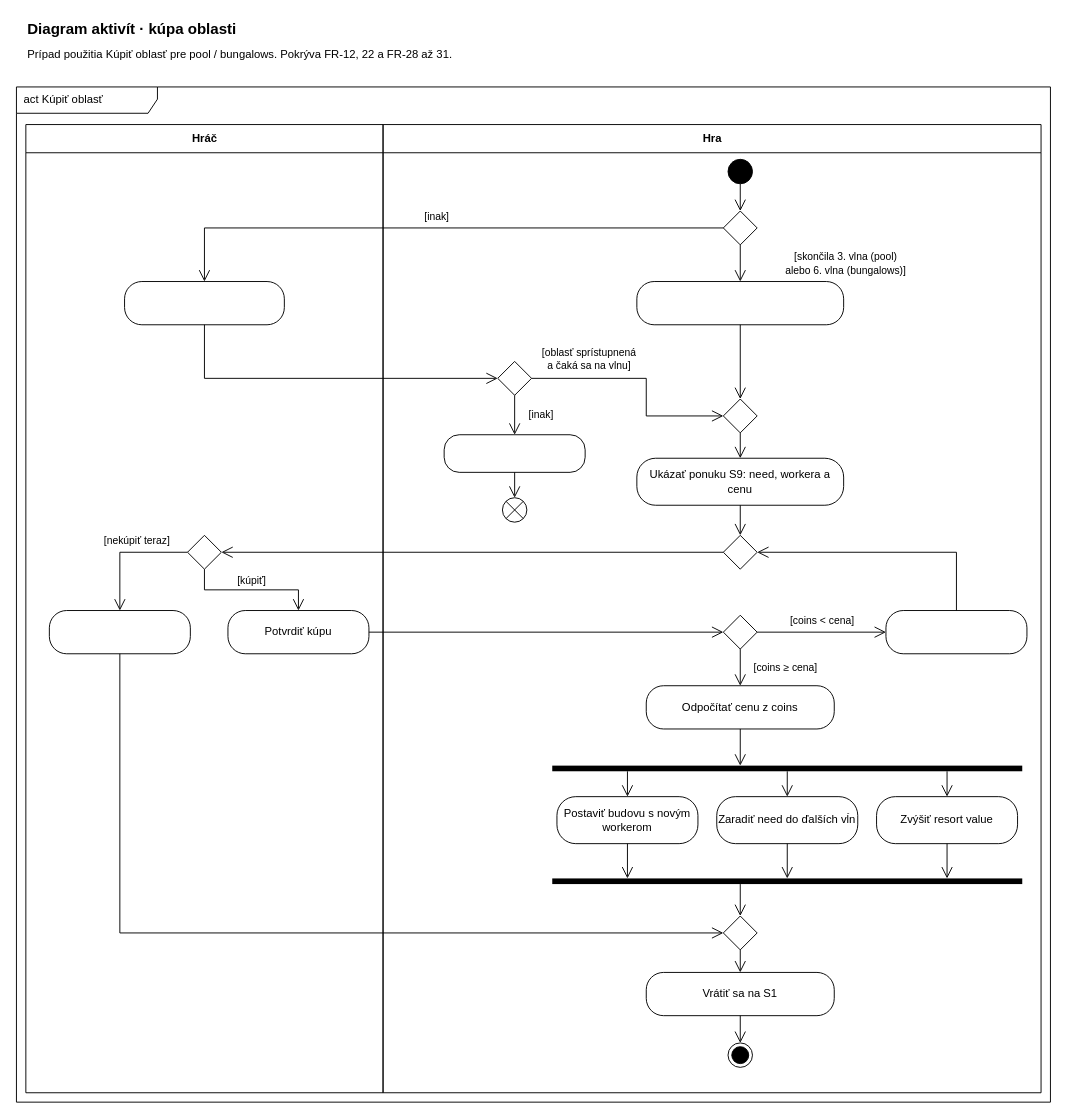
The diagram is 1067 pixels wide and 1119 high, and some of its shapes have lost their labels. The shapes that lost their labels are listed below. From the top down, each one's centre as x and y in pixels, then its label:
the point at 204,303: Ťuknúť na stavenisko
the point at 740,303: Sprístupniť oblasť a označiť stavenisko
the point at 514,453: Ignorovať ťuknutie
the point at 119,632: Zavrieť ponuku
the point at 956,632: Ukázať, koľko coins chýba
